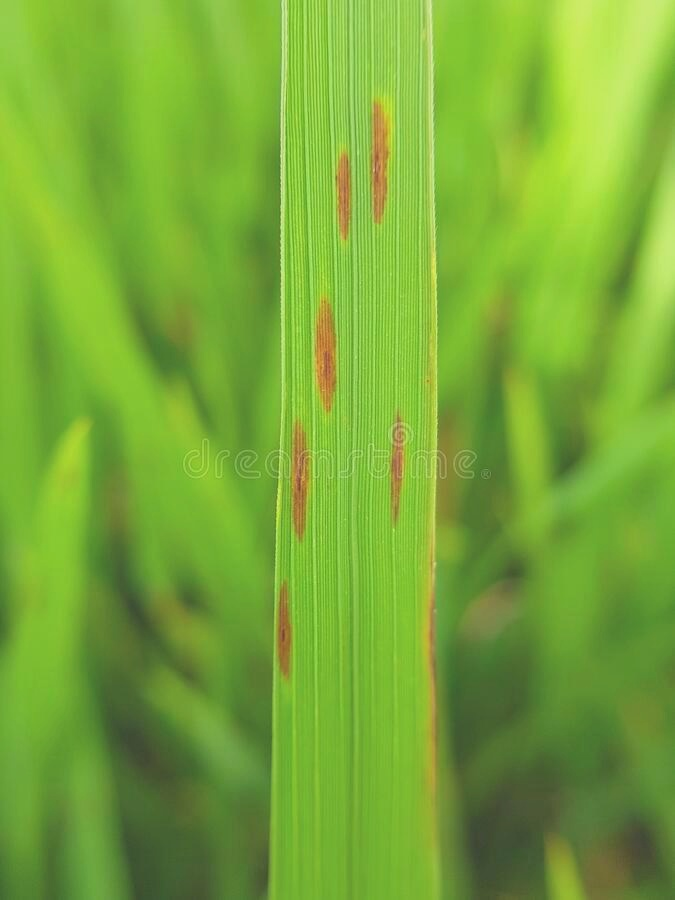Bacterial_Leaf_Blight: (264, 410, 333, 540), (353, 83, 400, 228), (252, 573, 310, 682), (376, 403, 417, 538), (301, 290, 346, 411), (327, 149, 354, 248)
